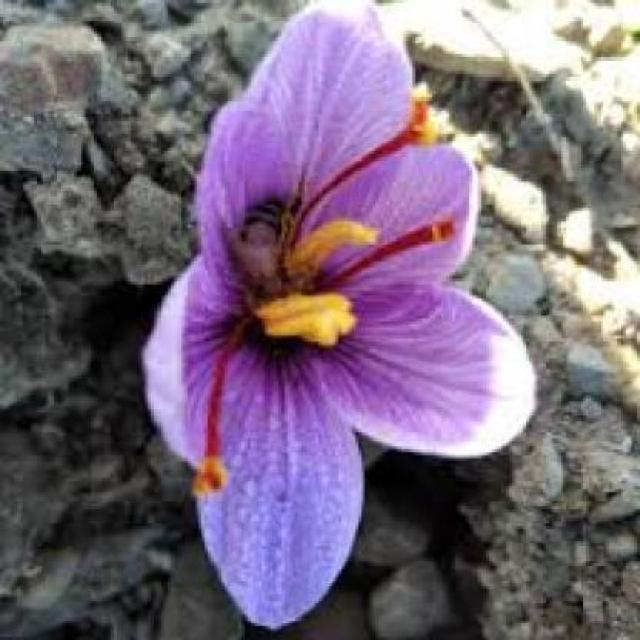Flower: (144, 0, 536, 629)
stigma: (302, 93, 457, 220), (186, 299, 256, 510), (363, 190, 470, 266)
